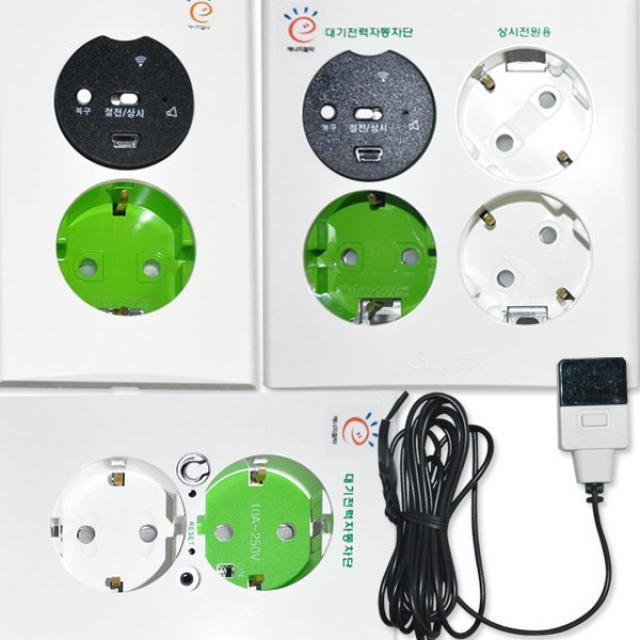typeb: (229, 0, 640, 387), (0, 0, 300, 449), (35, 431, 367, 614)
